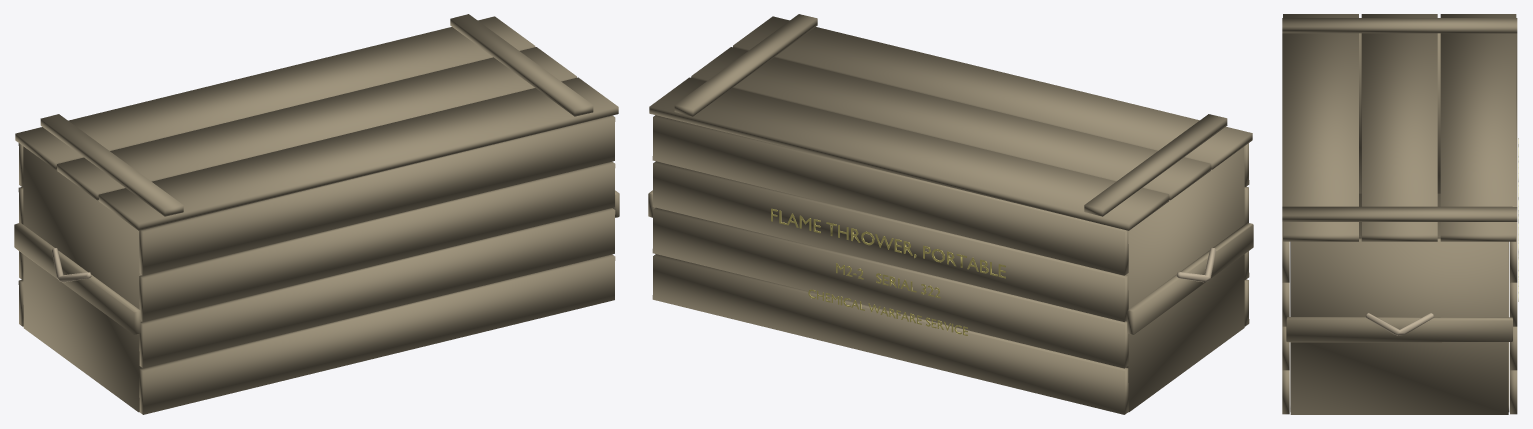
The model's file is flame_crate.glb.
3 renders of one model, left to right at view 1: azimuth 30°, elevation 25°; view 2: azimuth 150°, elevation 25°; view 3: azimuth 270°, elevation 25°, orthographic. The views are drawn at different scales.
Parts seen in each view (by area): view 1: flame_crate; view 2: flame_crate; view 3: flame_crate.
Boxes of the visible parts, box(x1,y1,x2,y2) form: flame_crate: box(14, 14, 619, 414); flame_crate: box(648, 14, 1253, 414); flame_crate: box(1282, 14, 1518, 414).
Size of the model in its own units: 1.31 by 0.4888 by 0.5509.
